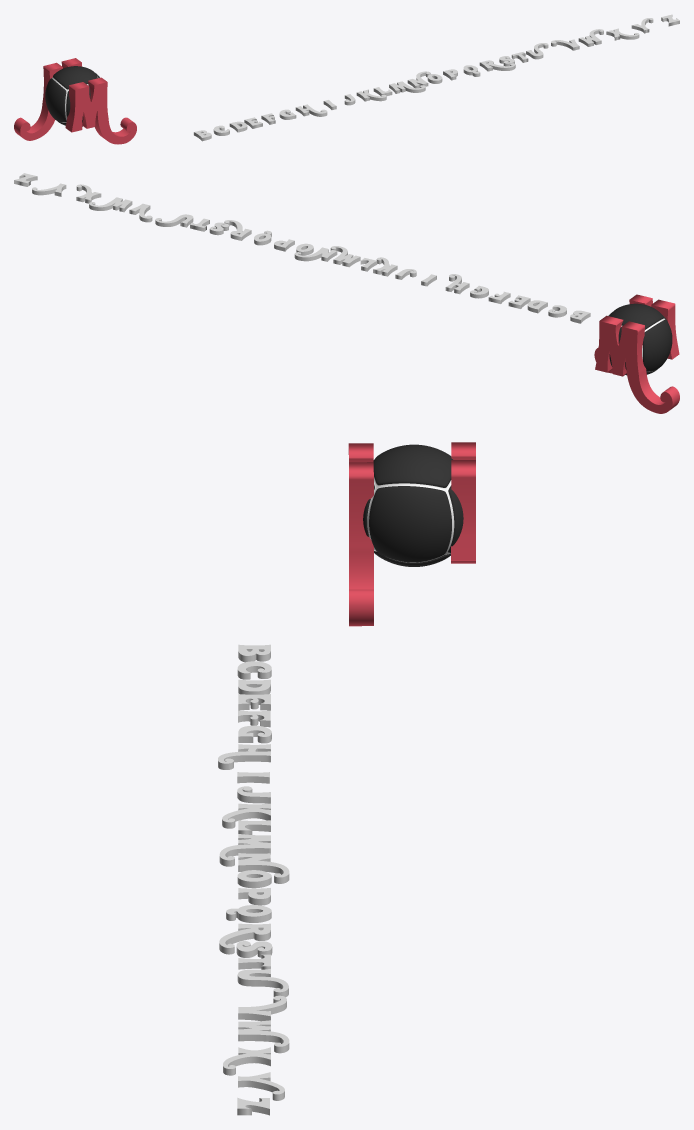
The picture shows the model from 3 angles, top to bottom: view 1: azimuth 30°, elevation 25°; view 2: azimuth 150°, elevation 25°; view 3: azimuth 270°, elevation 25°; orthographic projection. The views are drawn at different scales.
Visible parts, largest first — view 1: A, Cube.001, A.001, M, W, R, H, N, X, K; view 2: A.001, Cube.001, A, W; view 3: Cube.001, A, A.001, W.
Boxes of the visible parts, <box> form: A: <box>65,77,136,144</box>; Cube.001: <box>45,66,99,126</box>; A.001: <box>14,58,81,140</box>; M: <box>389,81,425,93</box>; W: <box>578,29,603,46</box>; R: <box>479,60,515,71</box>; H: <box>295,104,327,116</box>; N: <box>407,71,430,88</box>; X: <box>606,28,639,40</box>; K: <box>356,89,386,101</box>; A.001: <box>595,315,679,413</box>; Cube.001: <box>608,303,672,375</box>; A: <box>594,294,679,373</box>; W: <box>89,197,132,212</box>; Cube.001: <box>363,444,463,566</box>; A: <box>348,443,373,626</box>; A.001: <box>451,442,475,563</box>; W: <box>238,1020,289,1053</box>.
Bounding box in the file's own units: 1951 × 216 × 360.
